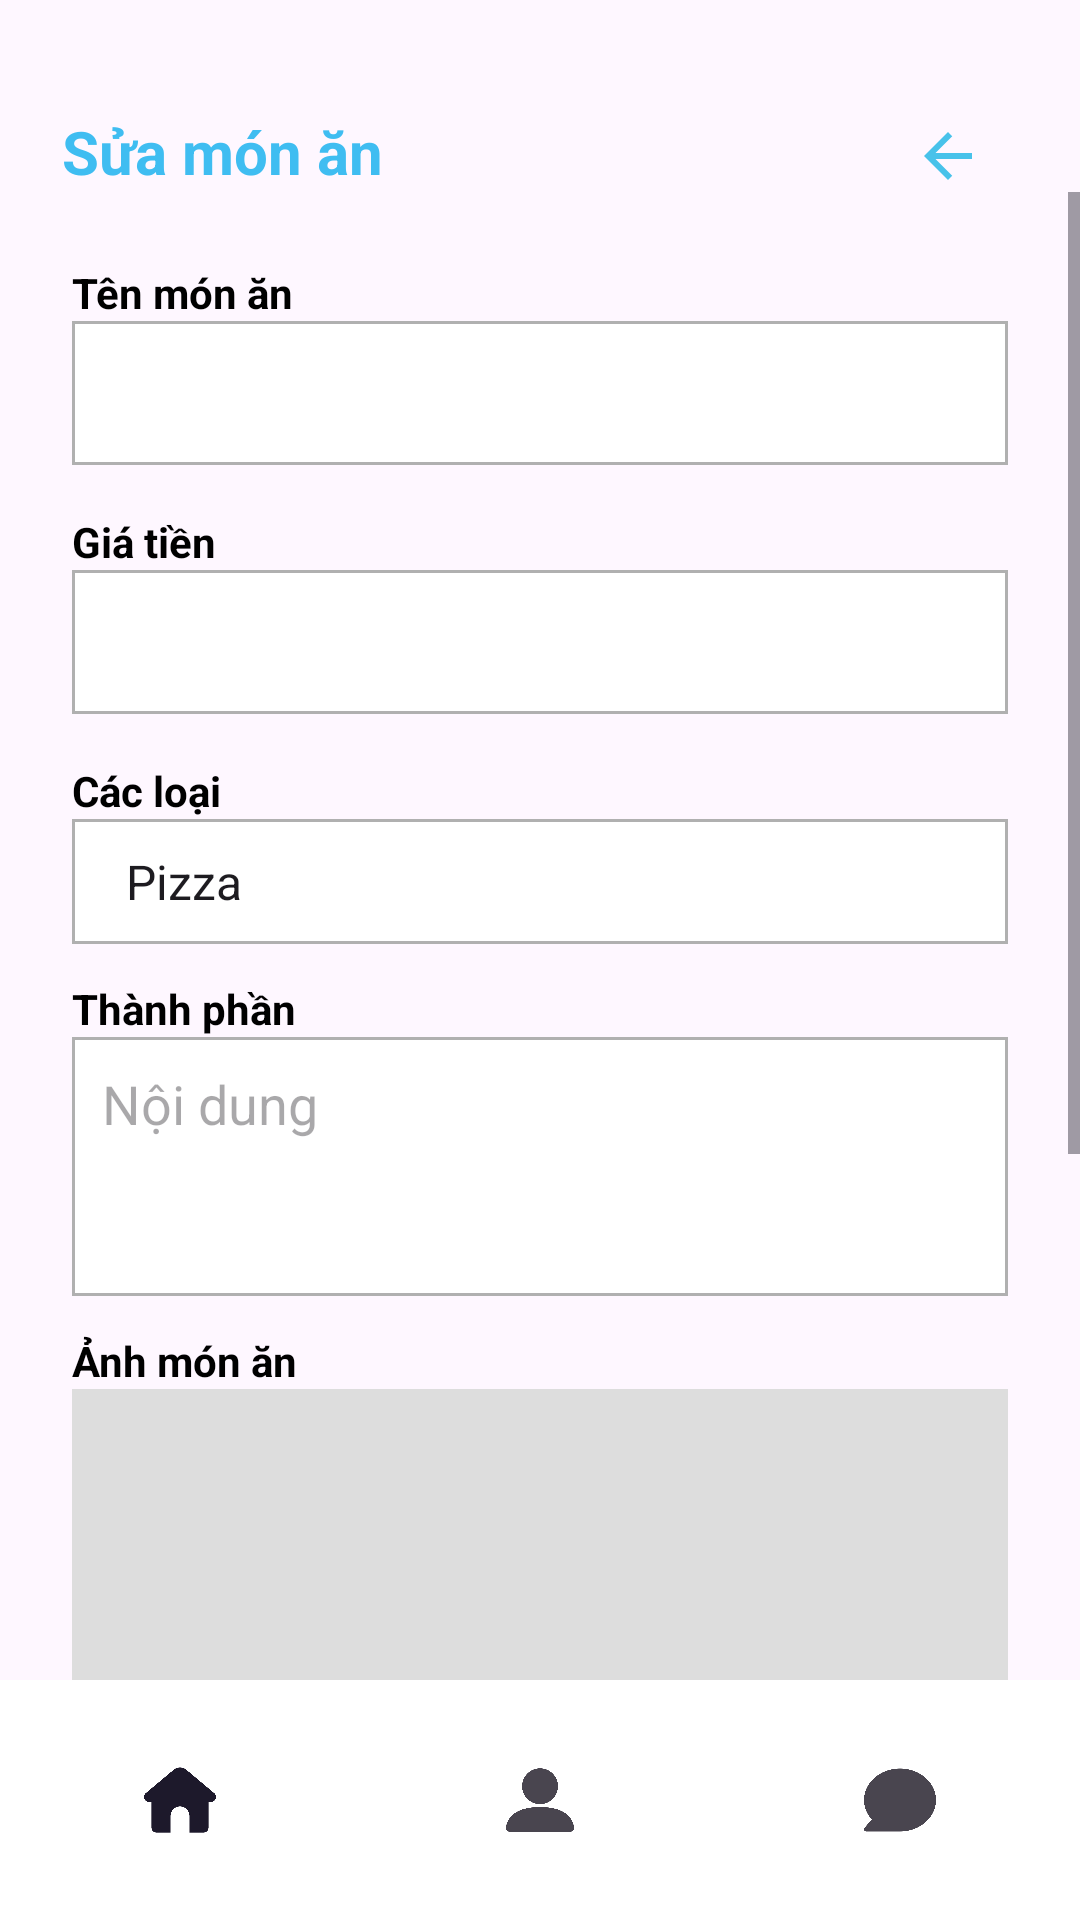

Named icons in this screenshot (1080*1920) and their bounding boxes, (x1,y1,x2,y2):
Back: (924,132,972,180)
